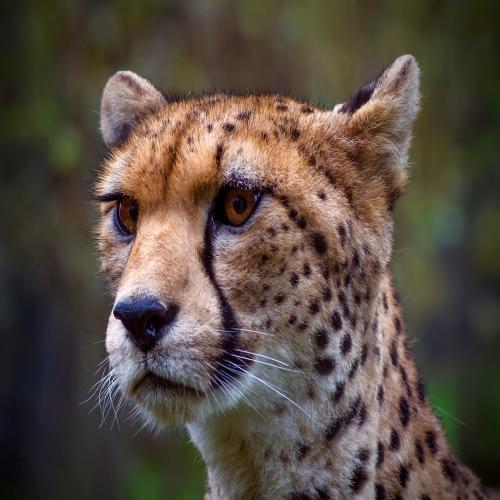cheetah-endangered: (92, 52, 495, 500)
